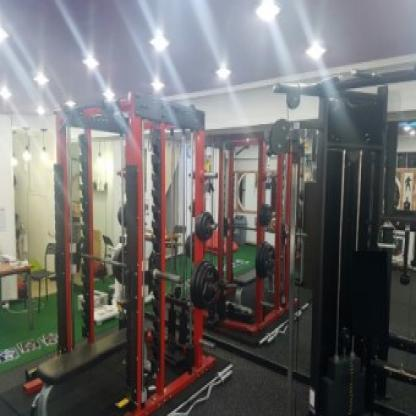smith machine: (54, 92, 218, 416)
